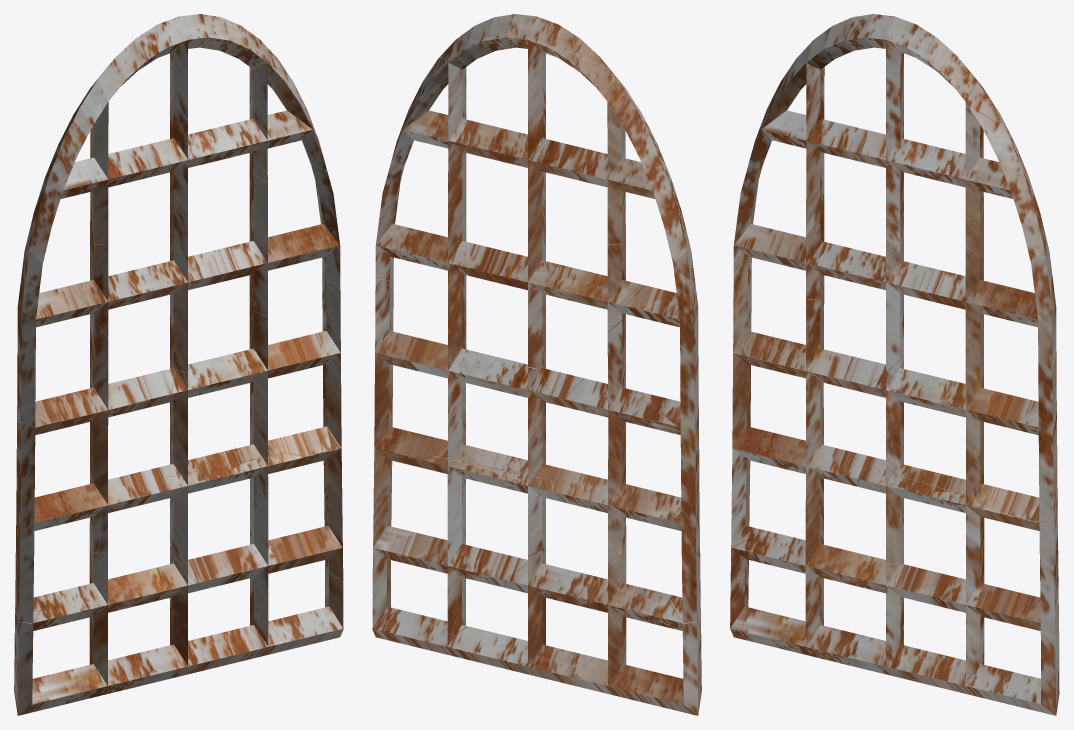
File: Fractured Door.glb
The picture shows the model from 3 angles, left to right: view 1: azimuth 30°, elevation 25°; view 2: azimuth 150°, elevation 25°; view 3: azimuth 330°, elevation 25°; orthographic projection.
Parts seen in each view (by area): view 1: Barred Door_cell.006, Barred Door_cell.011, Barred Door_cell.012, Barred Door_cell.002, Barred Door_cell, Barred Door_cell.013, Barred Door_cell.009, Barred Door_cell.004, Barred Door_cell.003, Barred Door_cell.005, Barred Door_cell.001, Barred Door_cell.014 (+1 smaller); view 2: Barred Door_cell.006, Barred Door_cell.011, Barred Door_cell.012, Barred Door_cell.002, Barred Door_cell.013, Barred Door_cell, Barred Door_cell.009, Barred Door_cell.004, Barred Door_cell.003, Barred Door_cell.005, Barred Door_cell.001, Barred Door_cell.014 (+2 smaller); view 3: Barred Door_cell.006, Barred Door_cell.002, Barred Door_cell.012, Barred Door_cell, Barred Door_cell.011, Barred Door_cell.013, Barred Door_cell.004, Barred Door_cell.003, Barred Door_cell.009, Barred Door_cell.005, Barred Door_cell.001, Barred Door_cell.014 (+2 smaller).
Boxes of the visible parts, left/top/right/bottom form: Barred Door_cell.006: left=14, top=541, right=265, bottom=715; Barred Door_cell.011: left=22, top=41, right=184, bottom=284; Barred Door_cell.012: left=15, top=400, right=162, bottom=623; Barred Door_cell.002: left=71, top=162, right=233, bottom=403; Barred Door_cell: left=142, top=452, right=305, bottom=642; Barred Door_cell.013: left=150, top=304, right=310, bottom=477; Barred Door_cell.009: left=17, top=270, right=148, bottom=426; Barred Door_cell.004: left=219, top=165, right=340, bottom=316; Barred Door_cell.003: left=184, top=65, right=327, bottom=181; Barred Door_cell.005: left=133, top=14, right=267, bottom=161; Barred Door_cell.001: left=280, top=266, right=341, bottom=456; Barred Door_cell.014: left=296, top=447, right=343, bottom=581; Barred Door_cell.006: left=450, top=541, right=701, bottom=715; Barred Door_cell.011: left=531, top=41, right=693, bottom=282; Barred Door_cell.012: left=552, top=399, right=700, bottom=623; Barred Door_cell.002: left=488, top=162, right=644, bottom=402; Barred Door_cell.013: left=412, top=304, right=565, bottom=479; Barred Door_cell: left=410, top=456, right=573, bottom=635; Barred Door_cell.009: left=564, top=272, right=698, bottom=426; Barred Door_cell.004: left=375, top=164, right=496, bottom=316; Barred Door_cell.003: left=389, top=67, right=531, bottom=179; Barred Door_cell.005: left=455, top=14, right=582, bottom=161; Barred Door_cell.001: left=374, top=272, right=435, bottom=460; Barred Door_cell.014: left=372, top=451, right=419, bottom=573; Barred Door_cell.006: left=730, top=502, right=972, bottom=695; Barred Door_cell.002: left=785, top=161, right=940, bottom=389; Barred Door_cell.012: left=731, top=352, right=873, bottom=547; Barred Door_cell: left=857, top=468, right=1012, bottom=680; Barred Door_cell.011: left=738, top=19, right=895, bottom=212; Barred Door_cell.013: left=862, top=343, right=1017, bottom=501; Barred Door_cell.004: left=931, top=205, right=1056, bottom=358; Barred Door_cell.003: left=885, top=105, right=1042, bottom=239; Barred Door_cell.009: left=733, top=199, right=847, bottom=380; Barred Door_cell.005: left=844, top=14, right=976, bottom=160; Barred Door_cell.001: left=990, top=340, right=1057, bottom=522; Barred Door_cell.014: left=1003, top=514, right=1059, bottom=657.
Size of the model in its own units: 2.04 by 4 by 0.2.
1 material, 1 textured.
